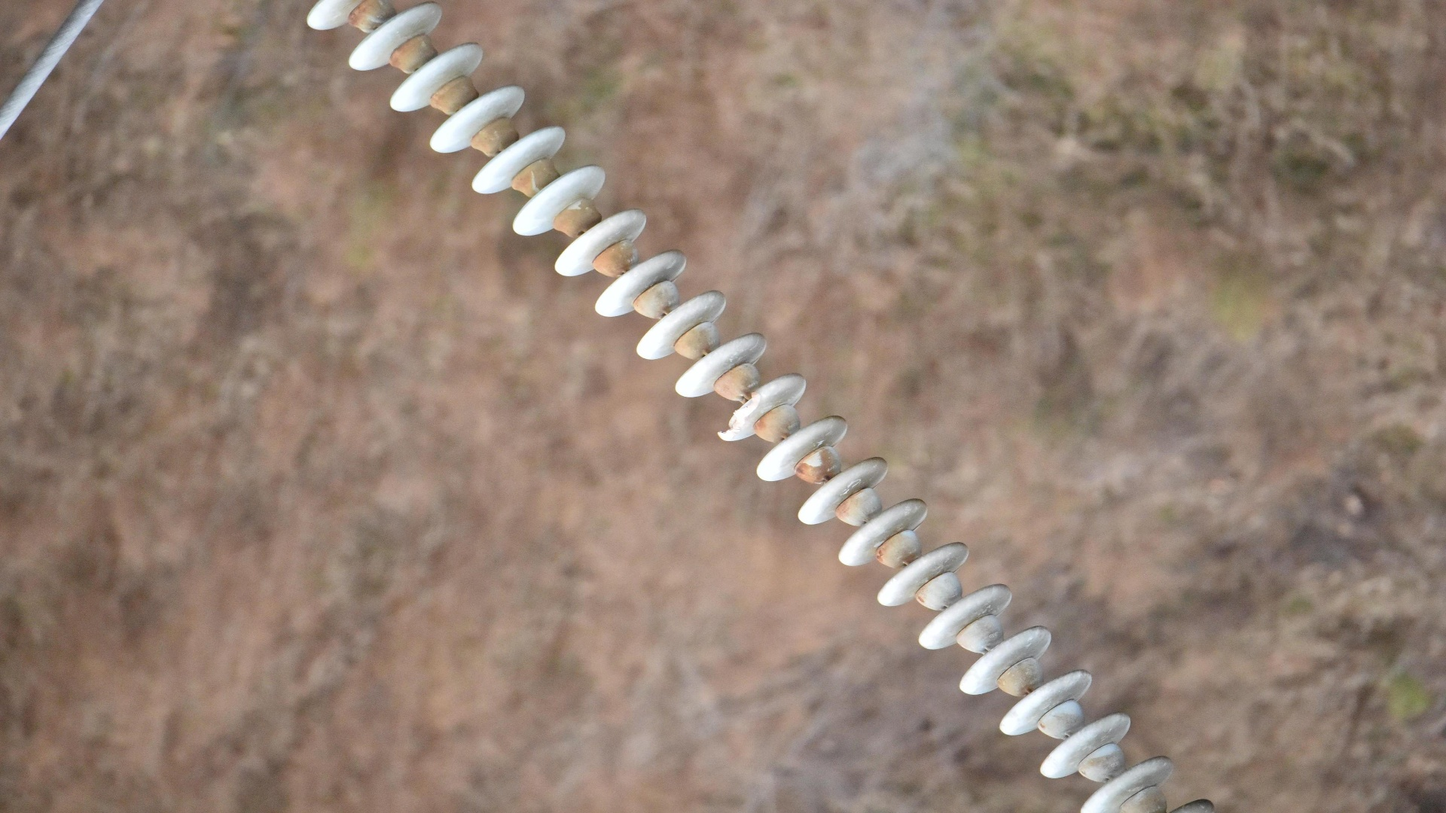insulator: (300, 1, 1228, 813)
insulator_breakage: (715, 388, 764, 443)
